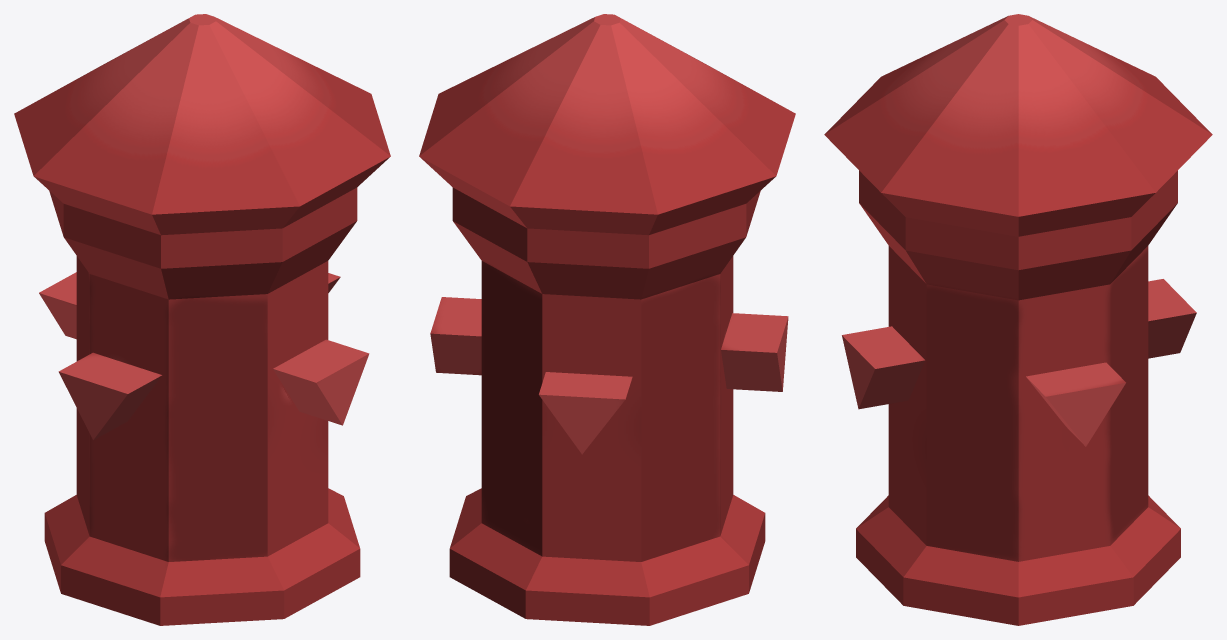
File: Hydrant.fbx
The picture shows the model from 3 angles, left to right: view 1: azimuth 30°, elevation 25°; view 2: azimuth 150°, elevation 25°; view 3: azimuth 270°, elevation 25°; orthographic projection.
Visible parts, largest first — view 1: Cylinder.001; view 2: Cylinder.001; view 3: Cylinder.001.
Boxes of the visible parts, bbox=[...] form: Cylinder.001: bbox=[14, 14, 390, 625]; Cylinder.001: bbox=[419, 14, 795, 625]; Cylinder.001: bbox=[824, 14, 1212, 625].
Size of the model in its own units: 125 by 191 by 125.
